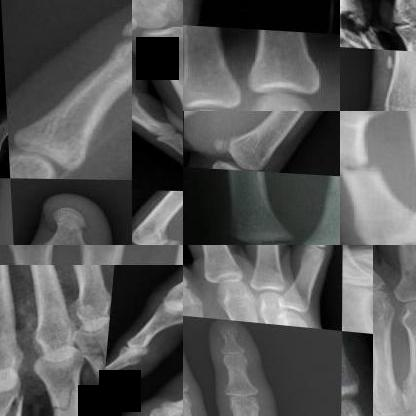fracture: (340, 0, 386, 47), (340, 142, 382, 192), (78, 334, 110, 392), (42, 203, 91, 240), (47, 373, 89, 415), (311, 170, 339, 223), (343, 258, 372, 290), (162, 248, 182, 265)
